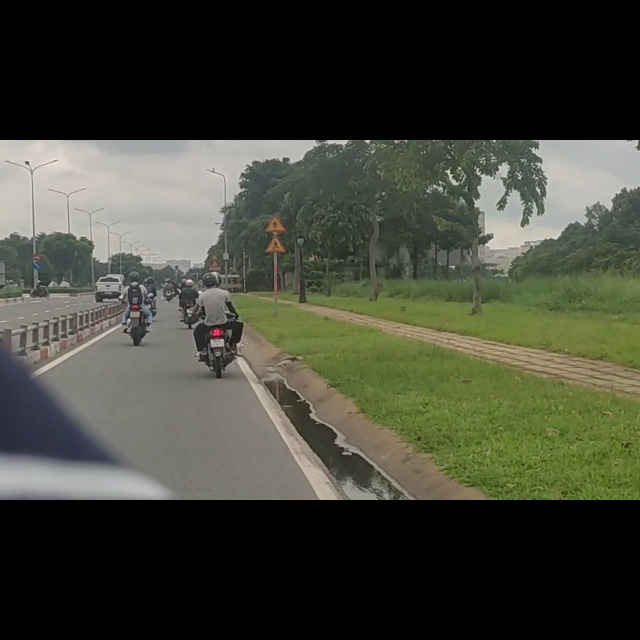bien_nguy_hiem: (265, 134, 286, 164), (265, 171, 286, 200), (33, 216, 41, 231), (33, 201, 41, 215)
